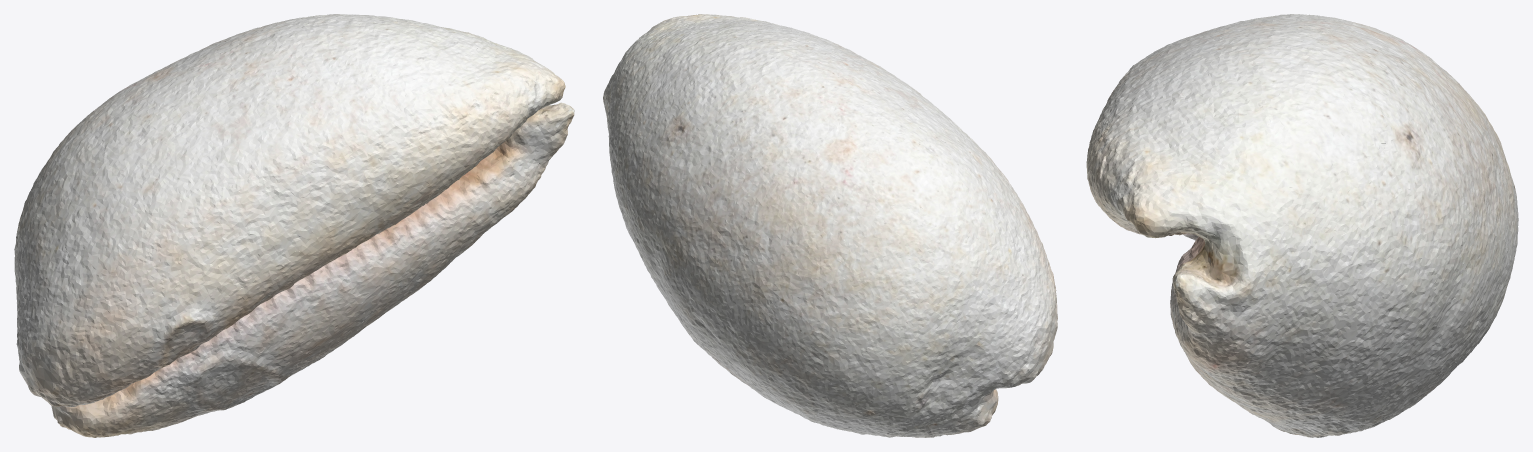
The model's file is MZUR3D-062.glb.
The picture shows the model from 3 angles, left to right: view 1: azimuth 30°, elevation 25°; view 2: azimuth 150°, elevation 25°; view 3: azimuth 270°, elevation 25°; orthographic projection. The views are drawn at different scales.
Parts seen in each view (by area): view 1: MZUR3D-062; view 2: MZUR3D-062; view 3: MZUR3D-062.
Boxes of the visible parts, box(x1,y1,x2,y2) form: MZUR3D-062: box(14, 14, 574, 437); MZUR3D-062: box(603, 14, 1057, 437); MZUR3D-062: box(1086, 14, 1518, 437).
Bounding box in the file's own units: 0.7779 × 0.5356 × 0.488.
1 material, 1 textured.
